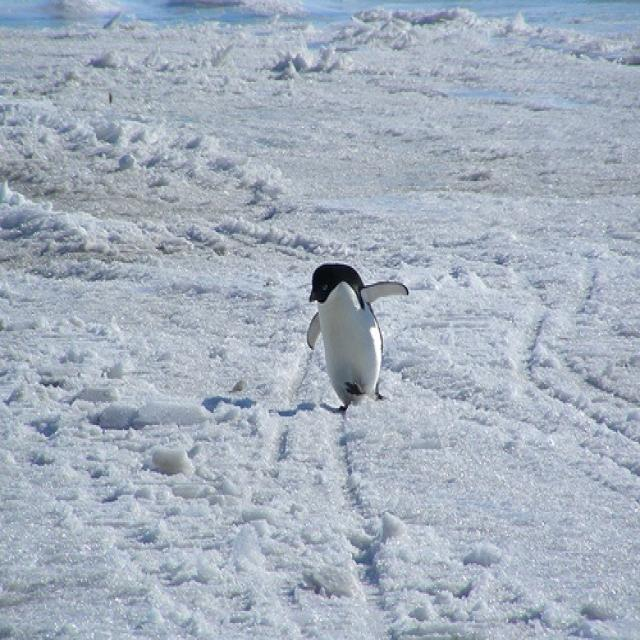bird: (306, 263, 410, 408)
